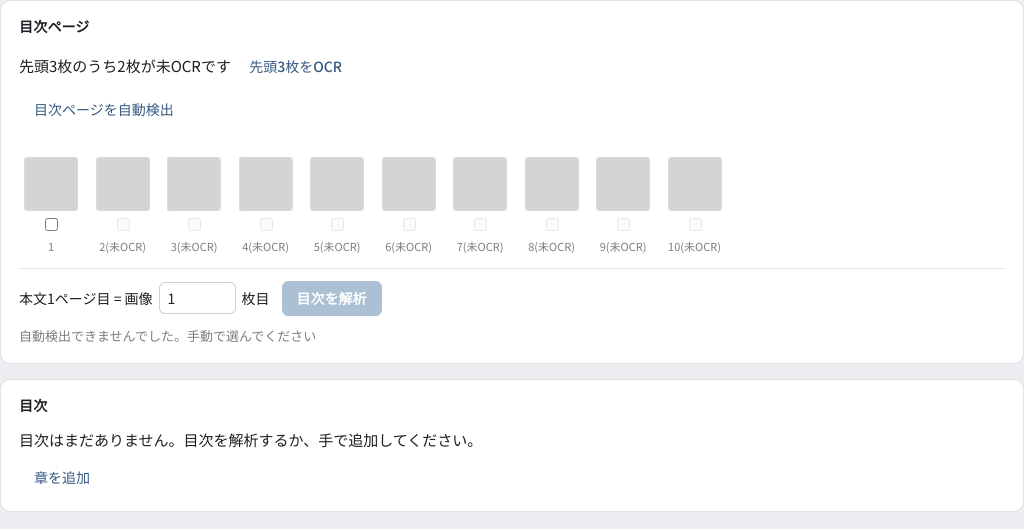
it: ChaptersStep › reports when the toc has no readable entries
Click the checkbox named "1枚目を目次ページにする". click: (52, 224)
box: 45,218 -> 58,231
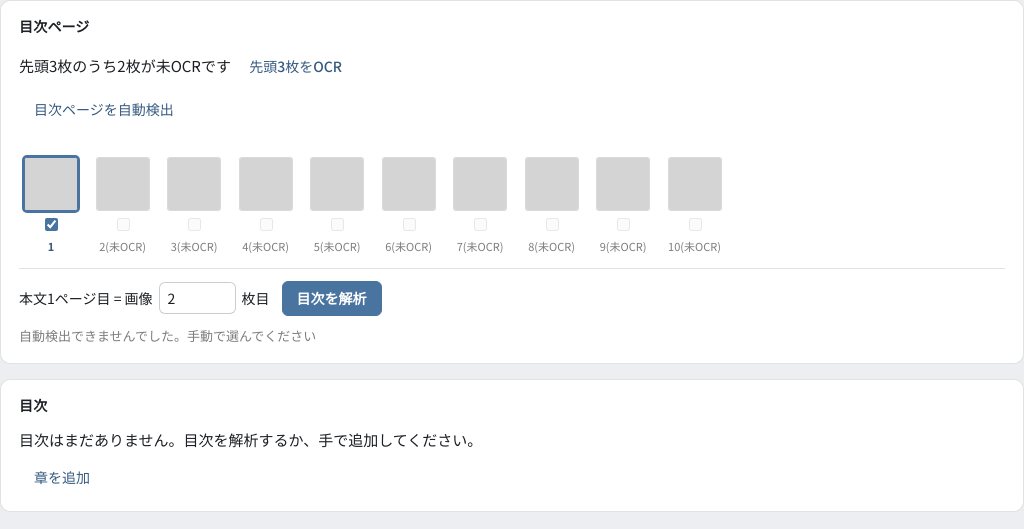
Click the button "目次を解析". click: (332, 298)
box: 282,281 -> 382,316
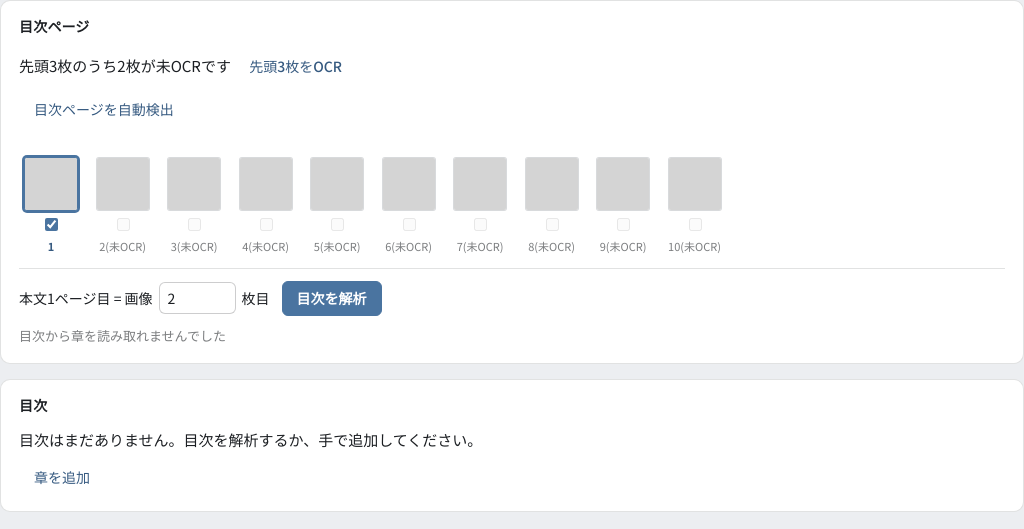
Expected: the text "目次から章を読み取れませんでした" is shown, 19,326 -> 226,345
